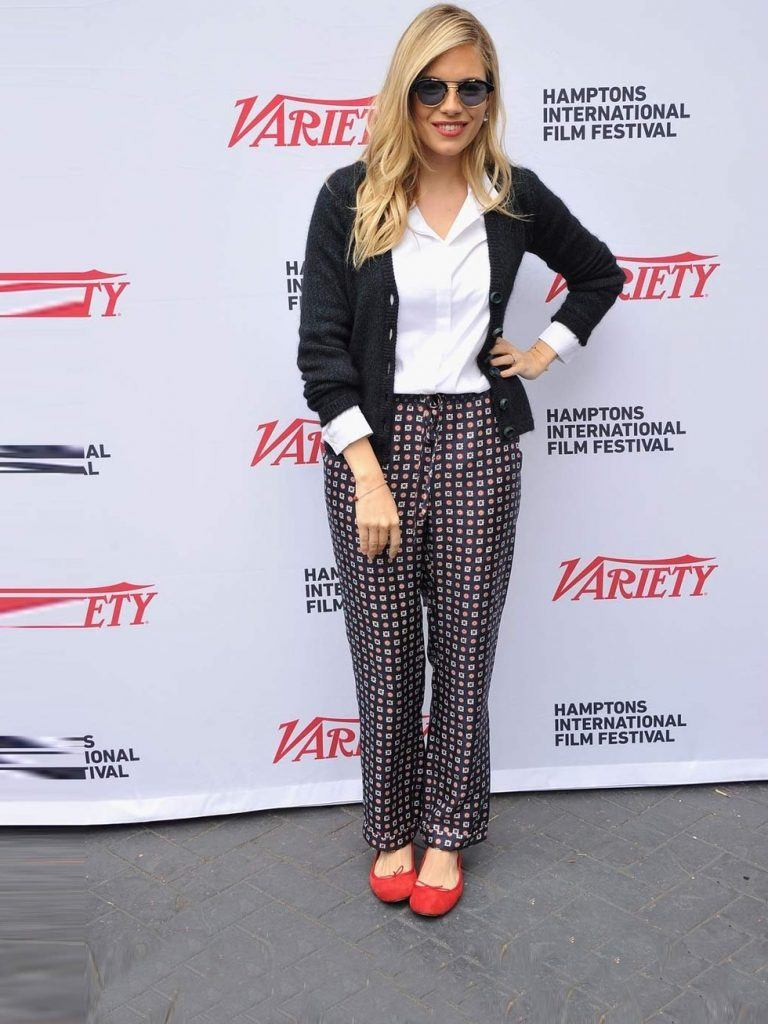F_W_suit jacket: (305, 164, 604, 441)
